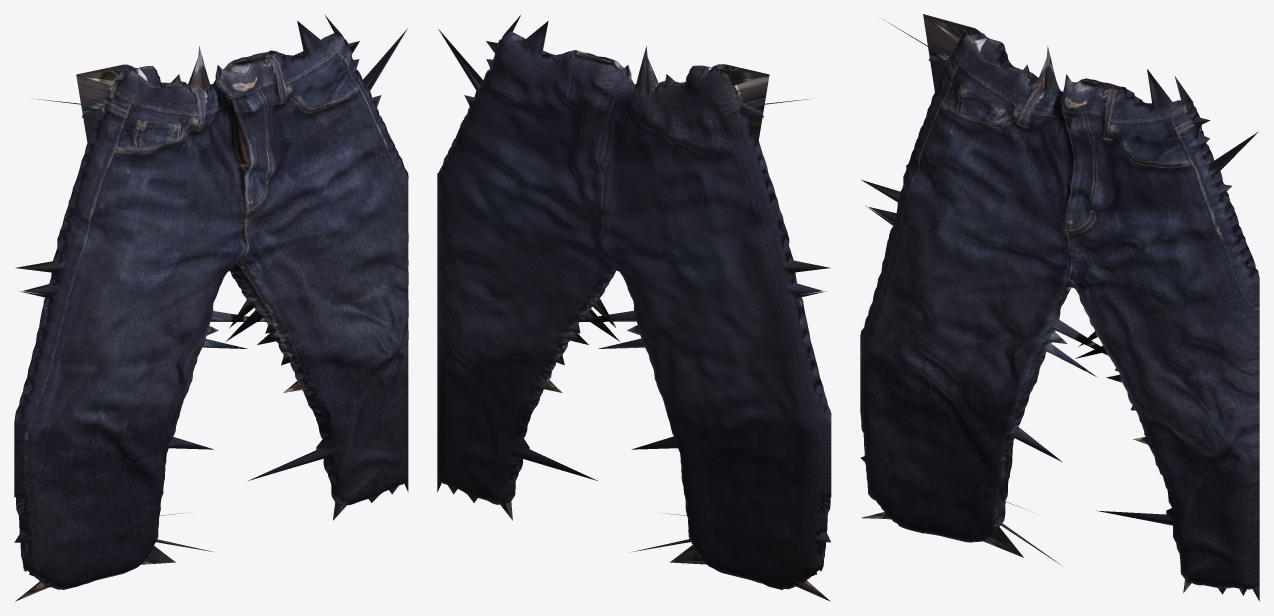
File: uncle-jeans.glb
3 views of the same model, side by side, from view 1: azimuth 30°, elevation 25°; view 2: azimuth 150°, elevation 25°; view 3: azimuth 330°, elevation 25° (orthographic).
Parts seen in each view (by area): view 1: uncle-jeans; view 2: uncle-jeans; view 3: uncle-jeans.
Boxes of the visible parts, x1,y1,x2,y2 form: uncle-jeans: (14,14,408,601); uncle-jeans: (437,15,831,601); uncle-jeans: (860,14,1259,601).
Bounding box in the file's own units: 0.8037 × 0.999 × 0.1019.
1 material, 1 textured.
